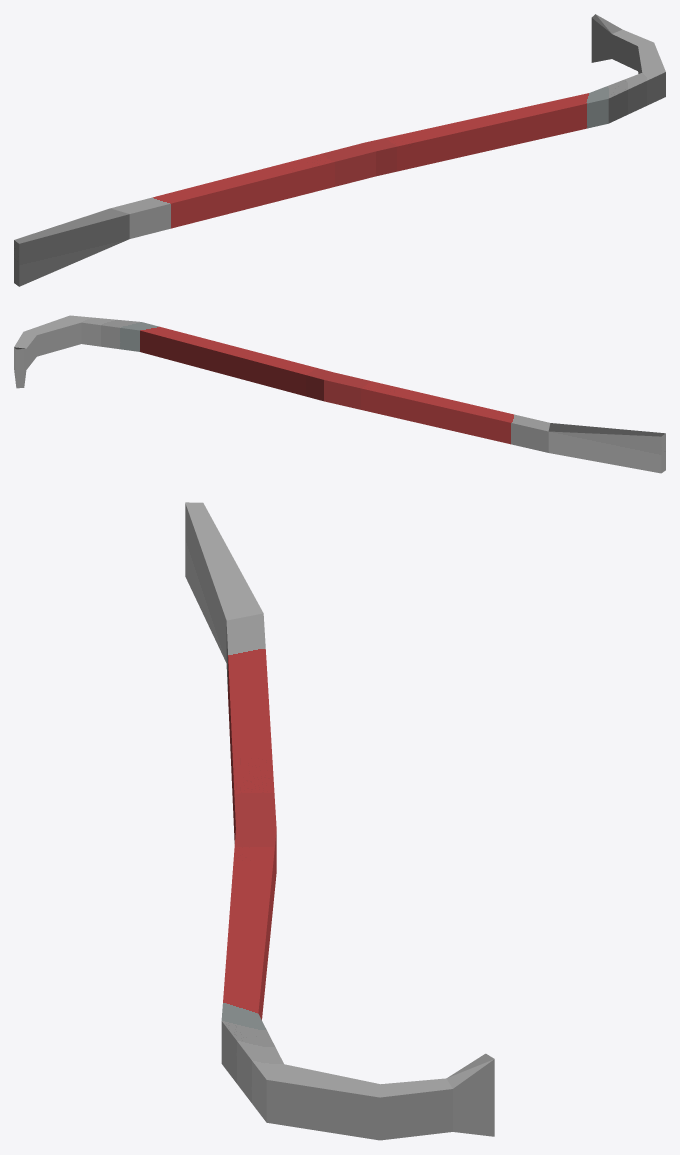
File: crowbar-half-life-original.glb
3 renders of one model, top to bottom at view 1: azimuth 30°, elevation 25°; view 2: azimuth 150°, elevation 25°; view 3: azimuth 270°, elevation 25°, orthographic. The views are drawn at different scales.
Size of the model in its own units: 43.41 by 2.72 by 9.8.
Materials: 1 (1 with a texture image).
